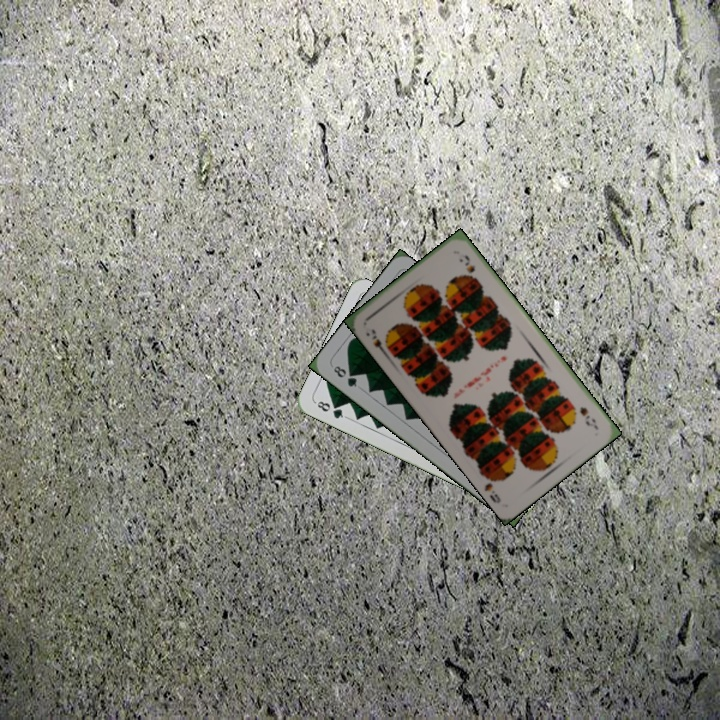G8: (311, 397, 349, 421), (329, 361, 360, 390)
S9: (367, 324, 393, 358), (576, 403, 601, 432)
